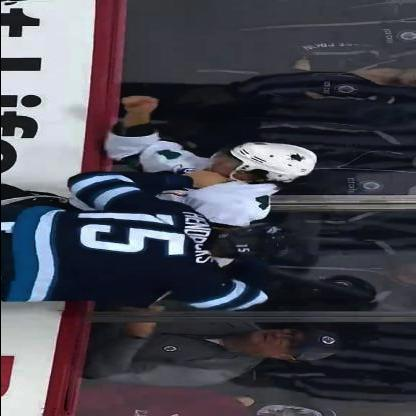non-Voilence: (87, 313, 346, 387)
voilence: (1, 108, 318, 310)
